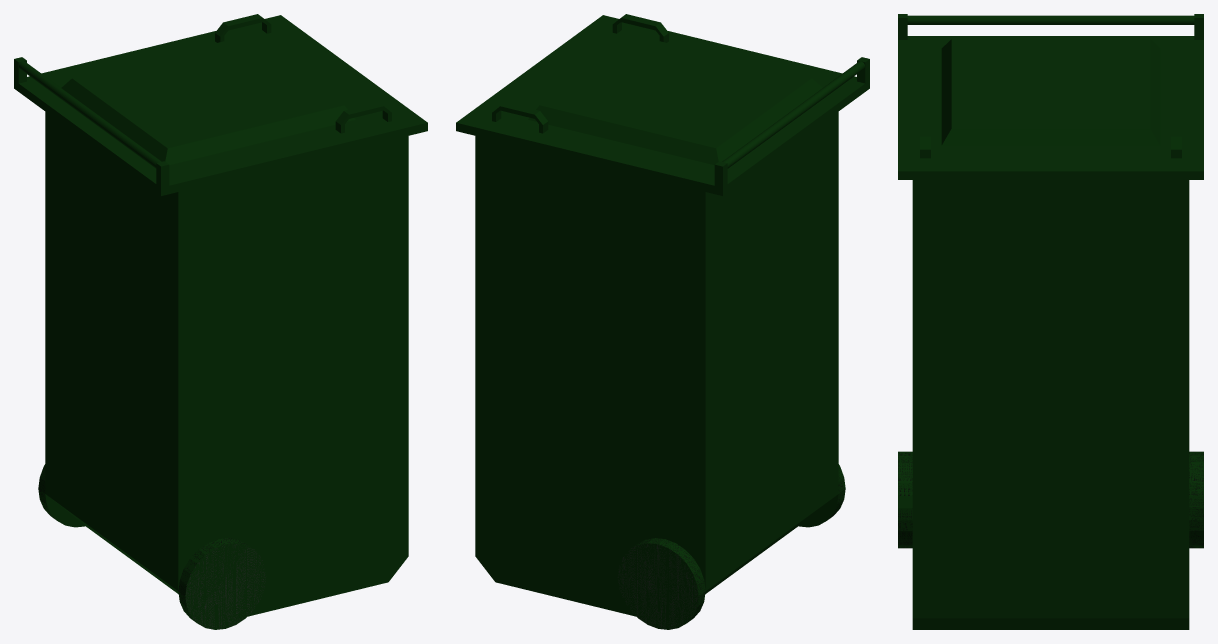
3 renders of one model, left to right at view 1: azimuth 30°, elevation 25°; view 2: azimuth 150°, elevation 25°; view 3: azimuth 270°, elevation 25°, orthographic. The views are drawn at different scales.
Parts seen in each view (by area): view 1: mesh1_mesh1-geometry; view 2: mesh1_mesh1-geometry; view 3: mesh1_mesh1-geometry.
Boxes of the visible parts, x1,y1,x2,y2 form: mesh1_mesh1-geometry: (14,14,427,629); mesh1_mesh1-geometry: (456,14,869,629); mesh1_mesh1-geometry: (898,14,1203,629).
Size of the model in its own units: 0.4544 by 0.778 by 0.4338.
